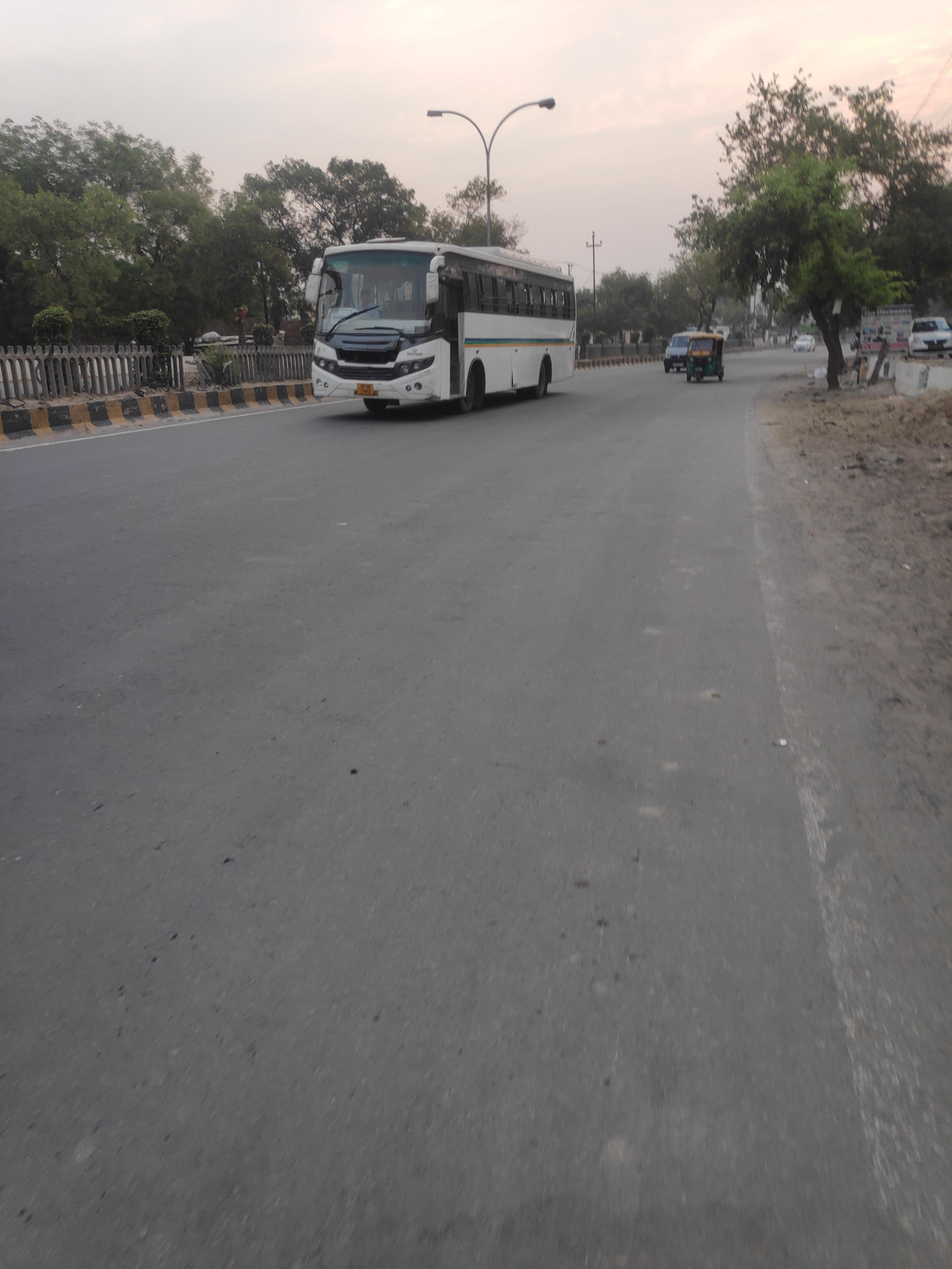Non-emergency: (294, 200, 604, 451)
